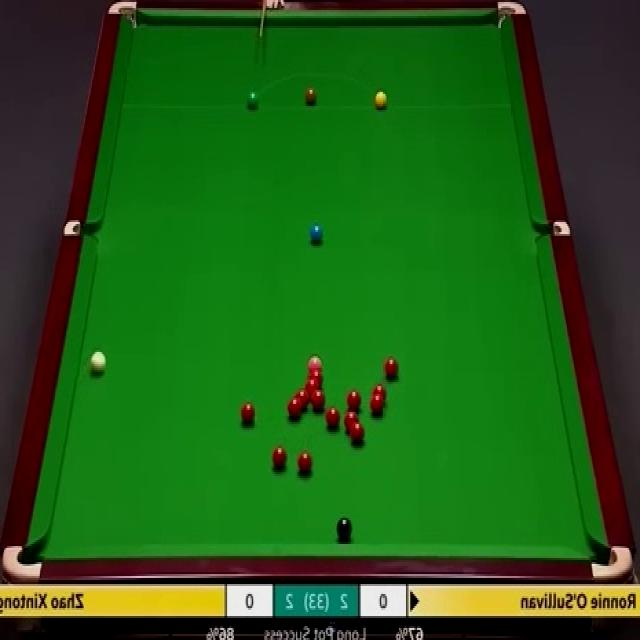black-ball: (337, 514, 352, 542)
blue-ball: (310, 222, 324, 246)
brown-ball: (306, 88, 318, 106)
green-ball: (247, 90, 258, 110)
pink-ball: (308, 354, 324, 368)
red-ball: (348, 422, 363, 447), (324, 407, 340, 429), (271, 447, 287, 469), (240, 403, 256, 425), (297, 451, 313, 473), (369, 396, 384, 419), (287, 396, 301, 420), (384, 356, 398, 379), (371, 383, 387, 403), (346, 392, 361, 412), (342, 411, 356, 430), (311, 391, 327, 407), (293, 392, 308, 408), (304, 378, 322, 391), (308, 370, 324, 380)
white-ball: (88, 348, 109, 378)
yellow-ball: (373, 89, 388, 110)
